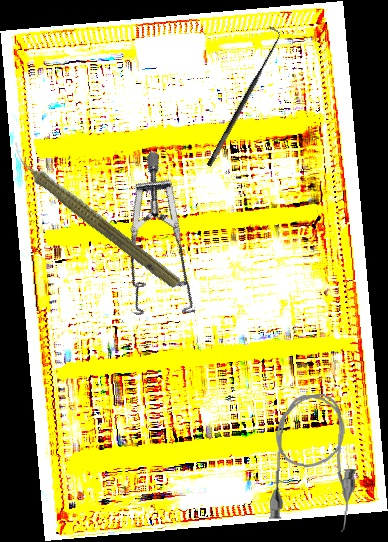Cannula: (268, 391, 360, 533)
Handpiece: (0, 139, 187, 293)
Hook Surgical: (196, 24, 287, 169)
Speculum: (77, 150, 254, 339)
